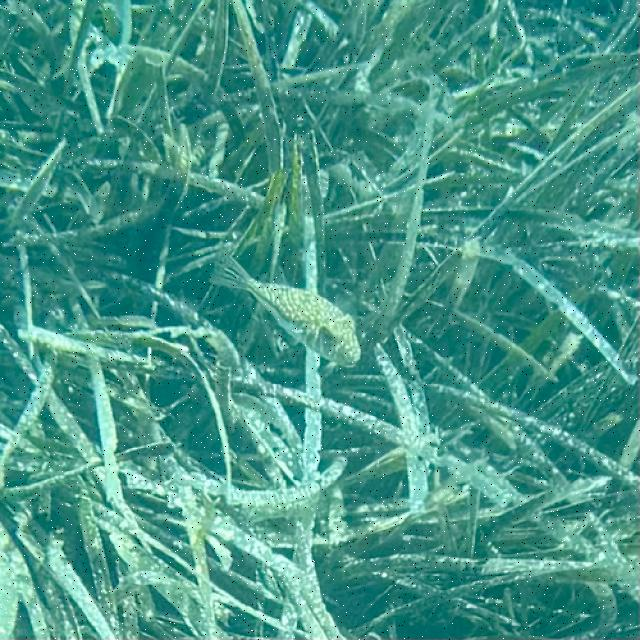Balik: (212, 253, 360, 366)
